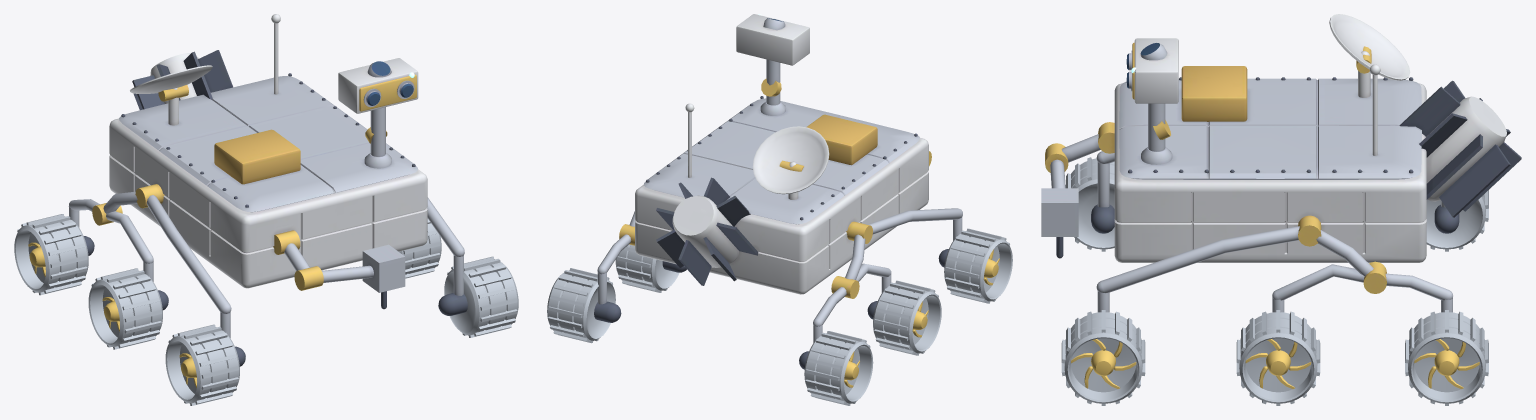
File: mars-rover.glb
3 views of the same model, side by side, from view 1: azimuth 30°, elevation 25°; view 2: azimuth 150°, elevation 25°; view 3: azimuth 270°, elevation 25° (orthographic). The views are drawn at different scales.
Visible parts, largest first — view 1: mars-rover_body, mars-rover_wheel_front_l; view 2: mars-rover_body, mars-rover_wheel_front_l; view 3: mars-rover_body, mars-rover_wheel_front_l.
Part boxes in pixels (x1,y1,x2,y2): mars-rover_body: [68, 14, 467, 366]; mars-rover_wheel_front_l: [14, 214, 518, 405]; mars-rover_body: [594, 14, 962, 369]; mars-rover_wheel_front_l: [547, 228, 1012, 405]; mars-rover_body: [1041, 14, 1521, 312]; mars-rover_wheel_front_l: [1061, 157, 1488, 405].
Bounding box in the file's own units: 2.7 × 2.17 × 3.08.
Materials: 5 (1 with a texture image).
